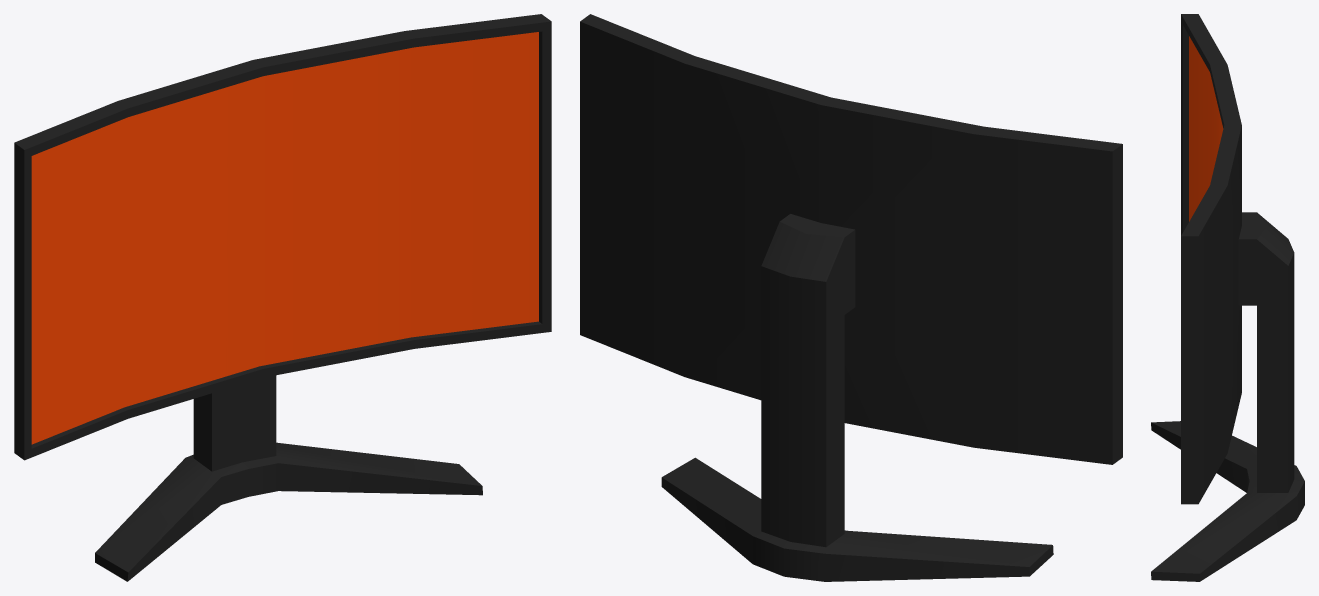
The model's file is monitorON.glb.
The picture shows the model from 3 angles, left to right: view 1: azimuth 30°, elevation 25°; view 2: azimuth 150°, elevation 25°; view 3: azimuth 270°, elevation 25°; orthographic projection. The views are drawn at different scales.
Parts seen in each view (by area): view 1: MontiorON; view 2: MontiorON; view 3: MontiorON.
Boxes of the visible parts, x1=… form: MontiorON: x1=14, y1=14, x2=551, y2=581; MontiorON: x1=580, y1=14, x2=1122, y2=581; MontiorON: x1=1151, y1=14, x2=1304, y2=581.
Size of the model in its own units: 0.7717 by 0.6157 by 0.226.
1 material, 1 textured.
